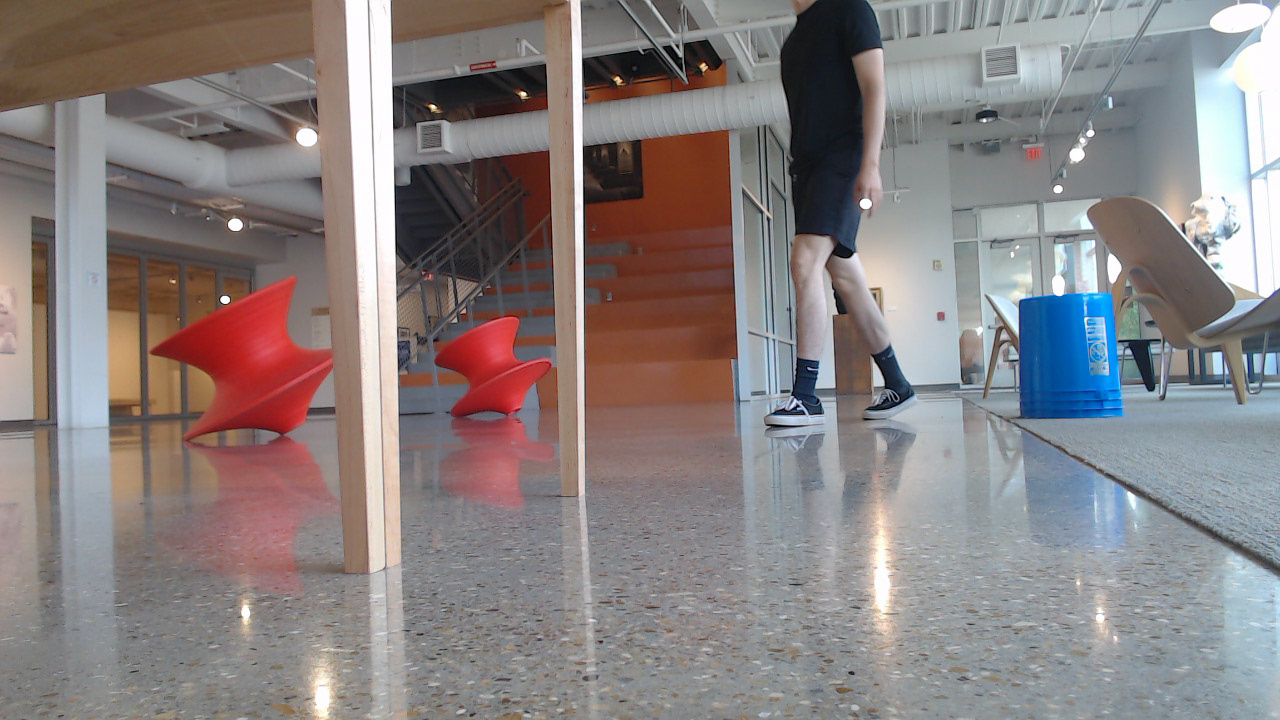blue_bucket: (1023, 300, 1130, 426)
